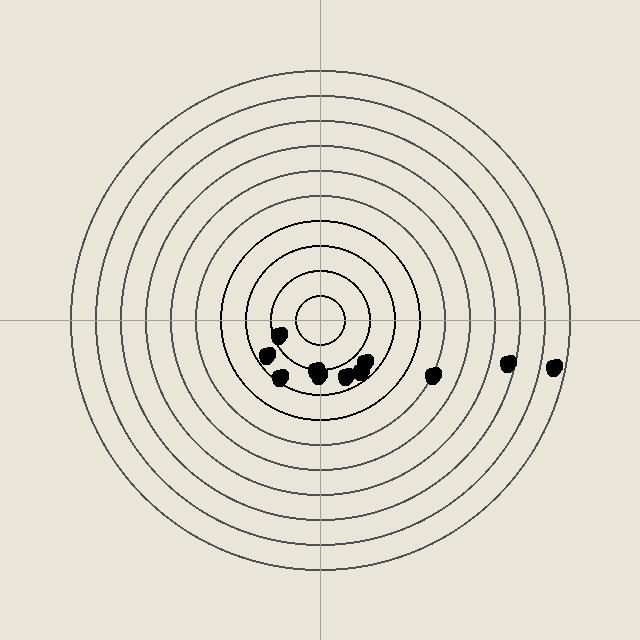horizontal_scatter: (335, 366, 355, 386), (269, 367, 289, 387), (422, 365, 442, 385), (350, 361, 370, 381), (268, 325, 288, 345), (354, 352, 374, 372), (308, 365, 328, 385), (305, 360, 325, 380), (543, 357, 563, 377), (256, 345, 276, 365), (497, 353, 517, 373)
